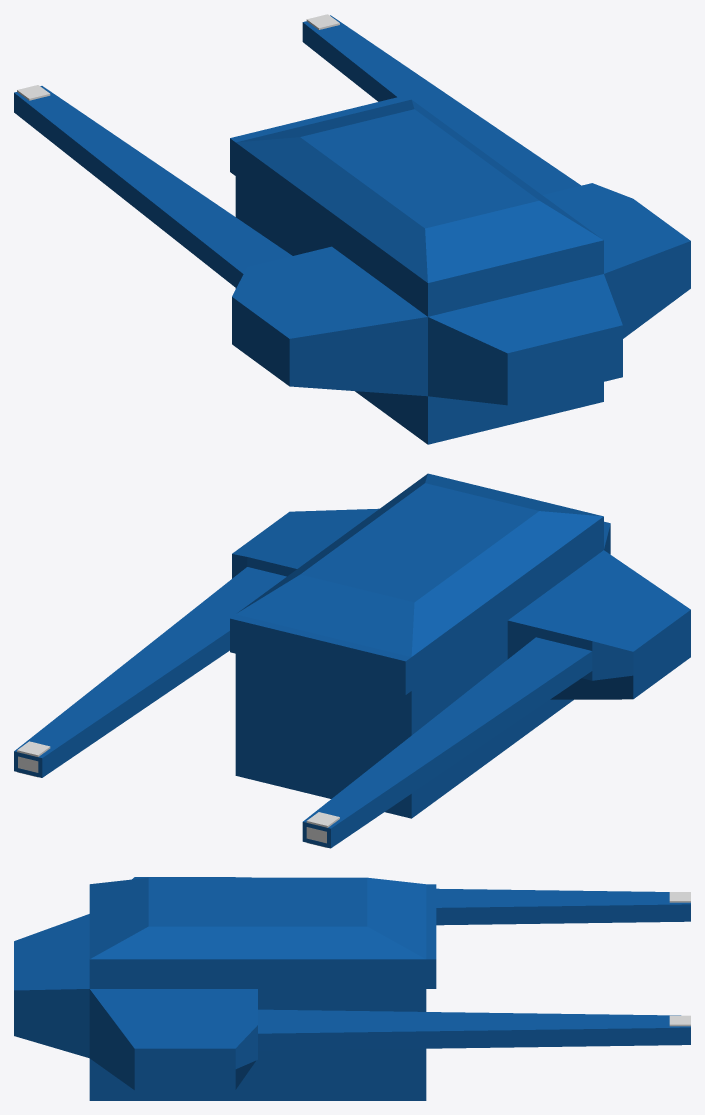
Rendered from Prototype_Gun.fbx.
The picture shows the model from 3 angles, top to bottom: view 1: azimuth 30°, elevation 25°; view 2: azimuth 150°, elevation 25°; view 3: azimuth 270°, elevation 25°; orthographic projection. The views are drawn at different scales.
Visible parts, largest first — view 1: Gun; view 2: Gun, MuzzlePoint 2, MuzzlePoint 1; view 3: Gun.
Part boxes in pixels (box(x1,y1,x2,y2)): Gun: box(14, 15, 690, 444); Gun: box(14, 473, 690, 848); MuzzlePoint 2: box(306, 812, 339, 847); MuzzlePoint 1: box(17, 741, 50, 777); Gun: box(14, 877, 690, 1100).
Size of the model in its own units: 17.8 by 7.8 by 29.7.
